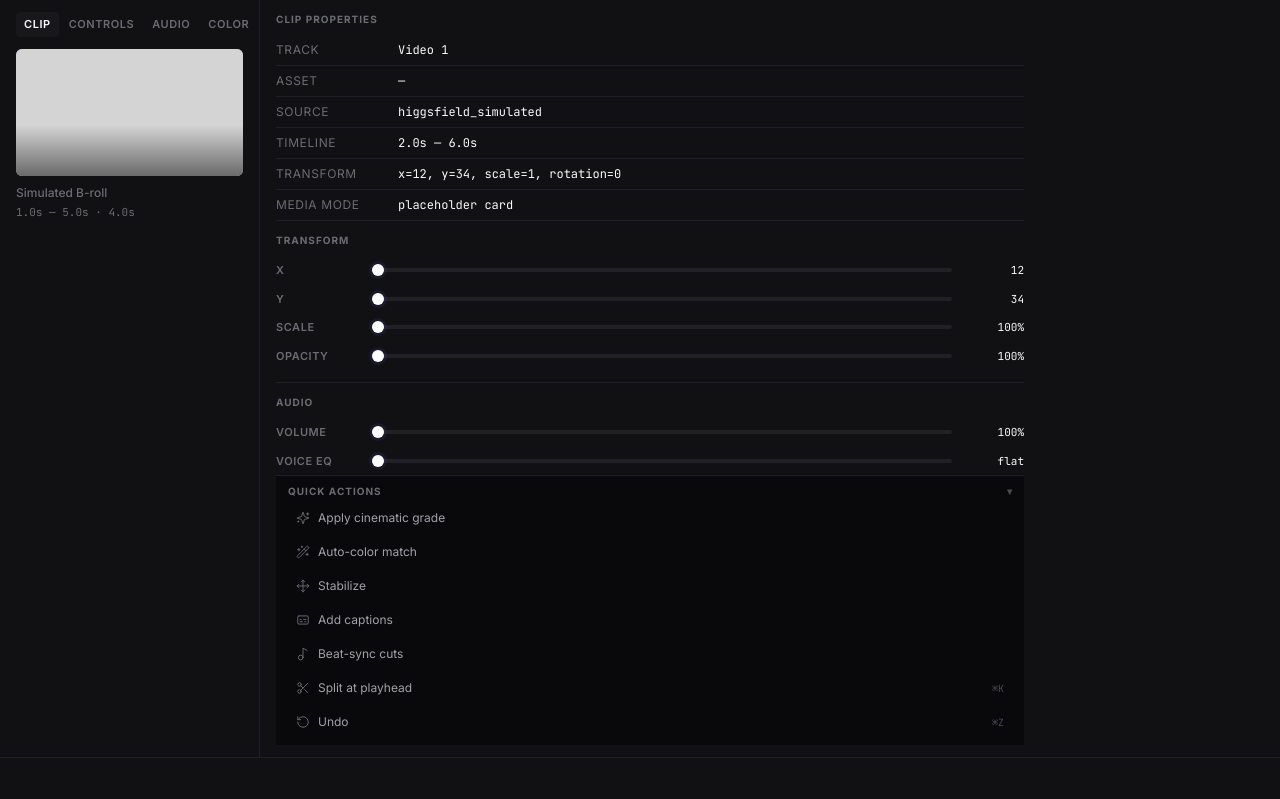
Test case: Day 9 preview and inspector components › Inspector shows track/start/end/asset/source/transform/effects from the selected clip
Check: the text with test id "inspector-track" reads "Video 1", box [398, 42, 448, 58]
Check: the text with test id "inspector-start-end" reads "2.0s — 6.0s", box [398, 135, 477, 151]
Click the button with test id "inspector-tab-controls" at (102, 24), box [61, 12, 142, 36]
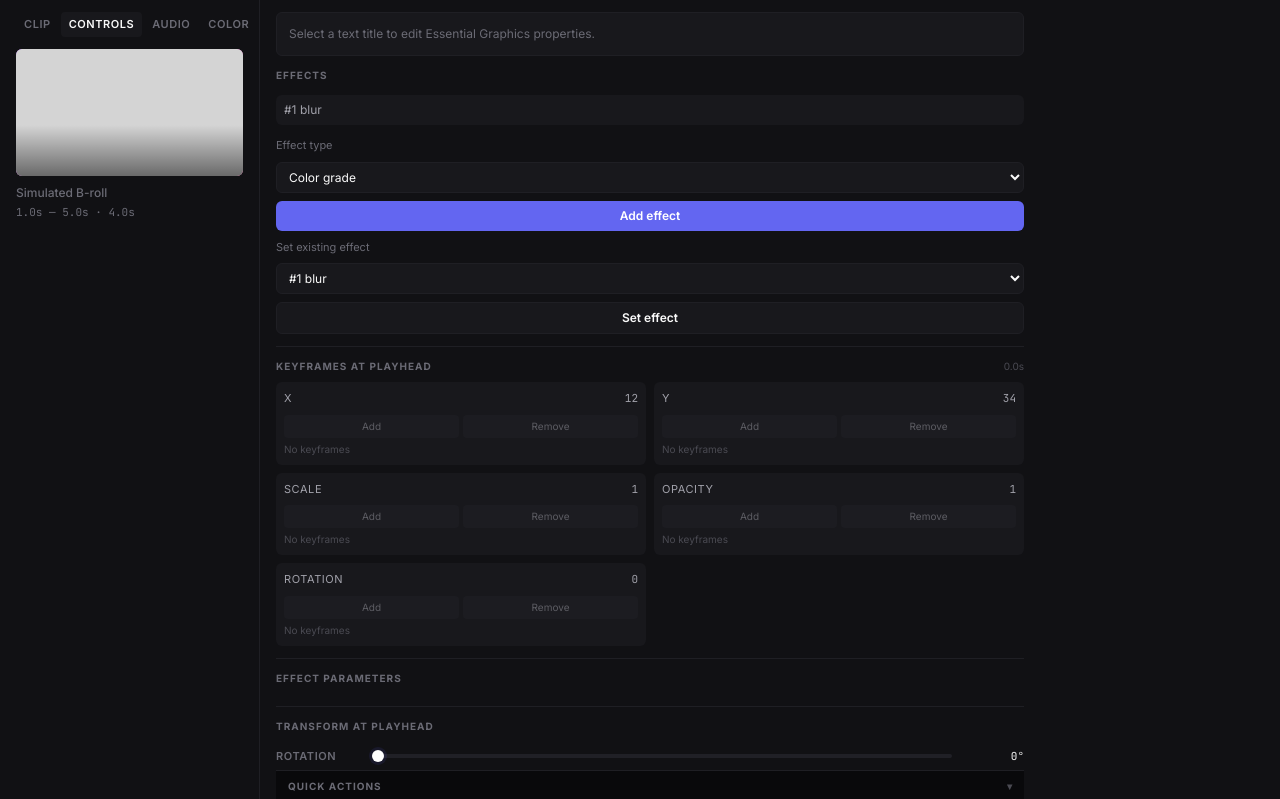
Check: the text with test id "clip-effect" shows "blur", box [300, 102, 322, 117]
